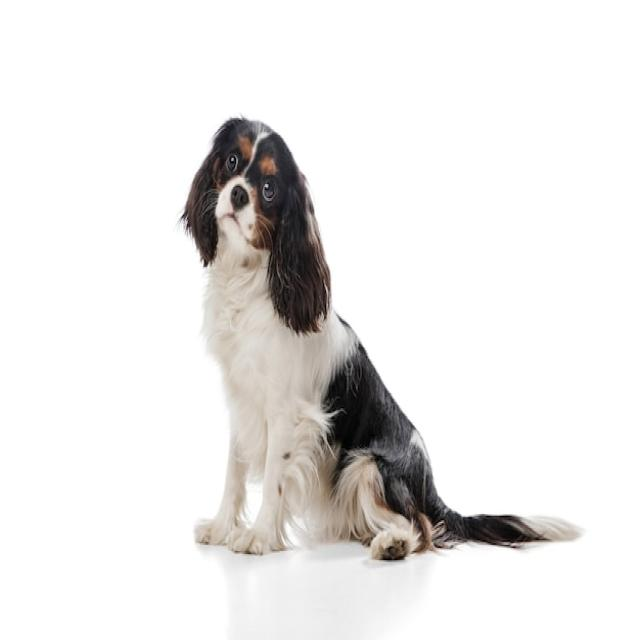Dog: (180, 115, 586, 559)
